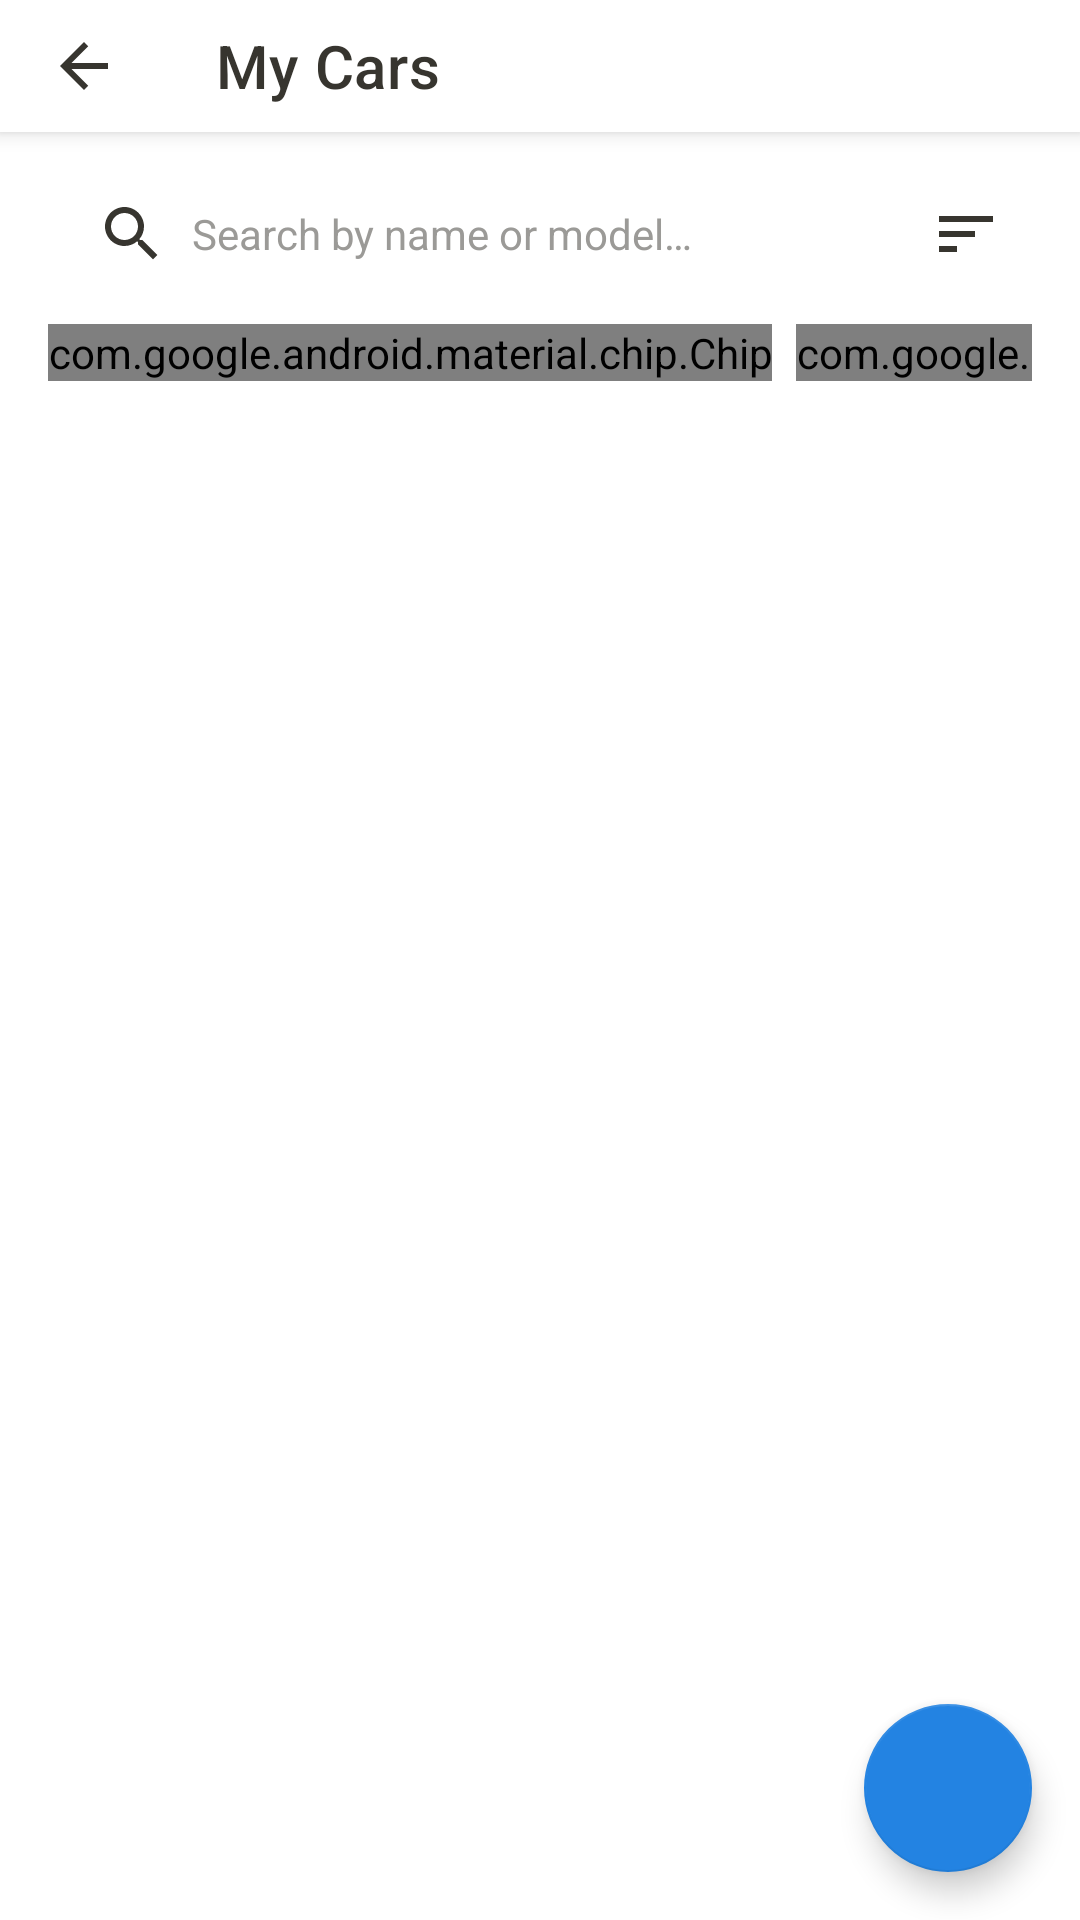

Icon click points for this 1080w x 1920h phone screenshot, format [x,y]:
Sort By: [966,234]
